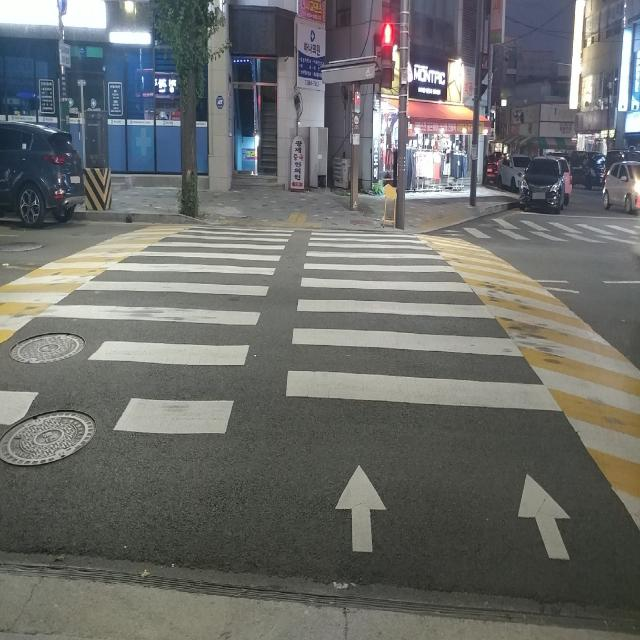빨간불: (382, 23, 394, 86)
횡단보도: (0, 223, 571, 559), (476, 214, 639, 240)
